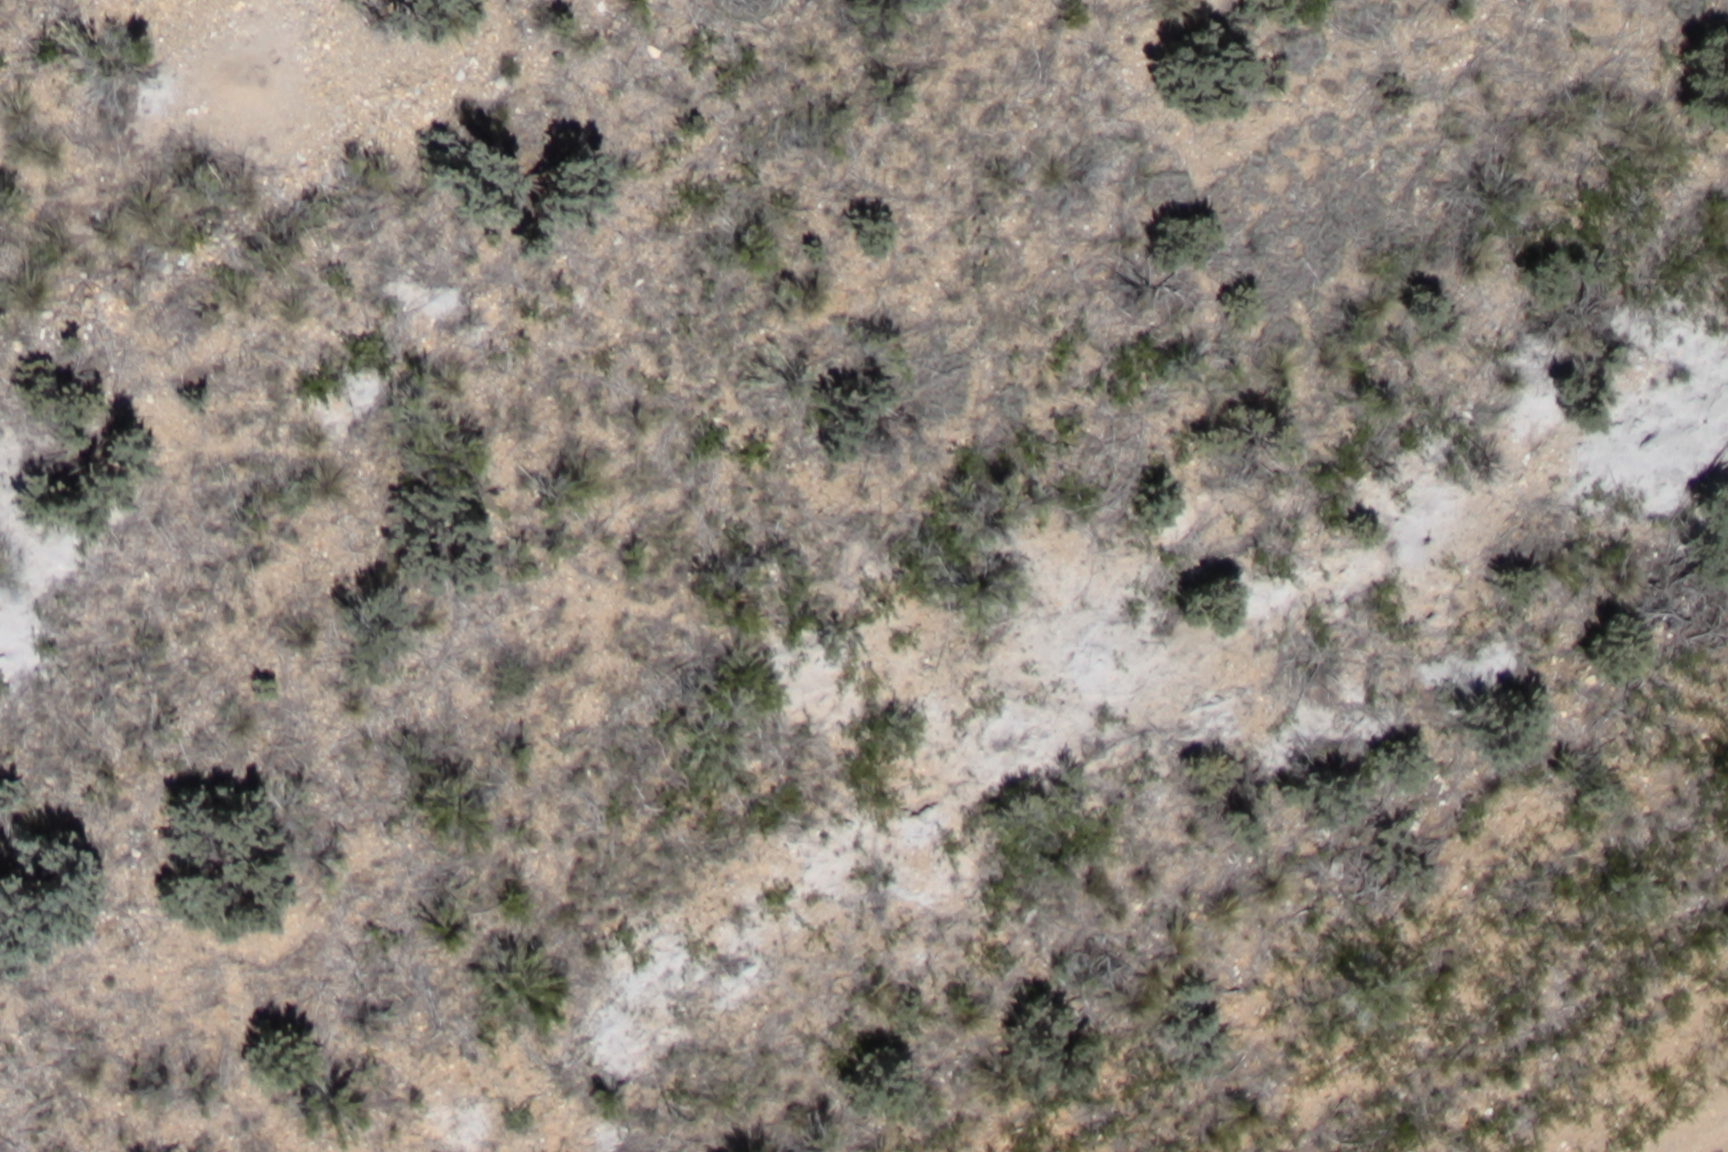burrow: (183, 23, 300, 143)
